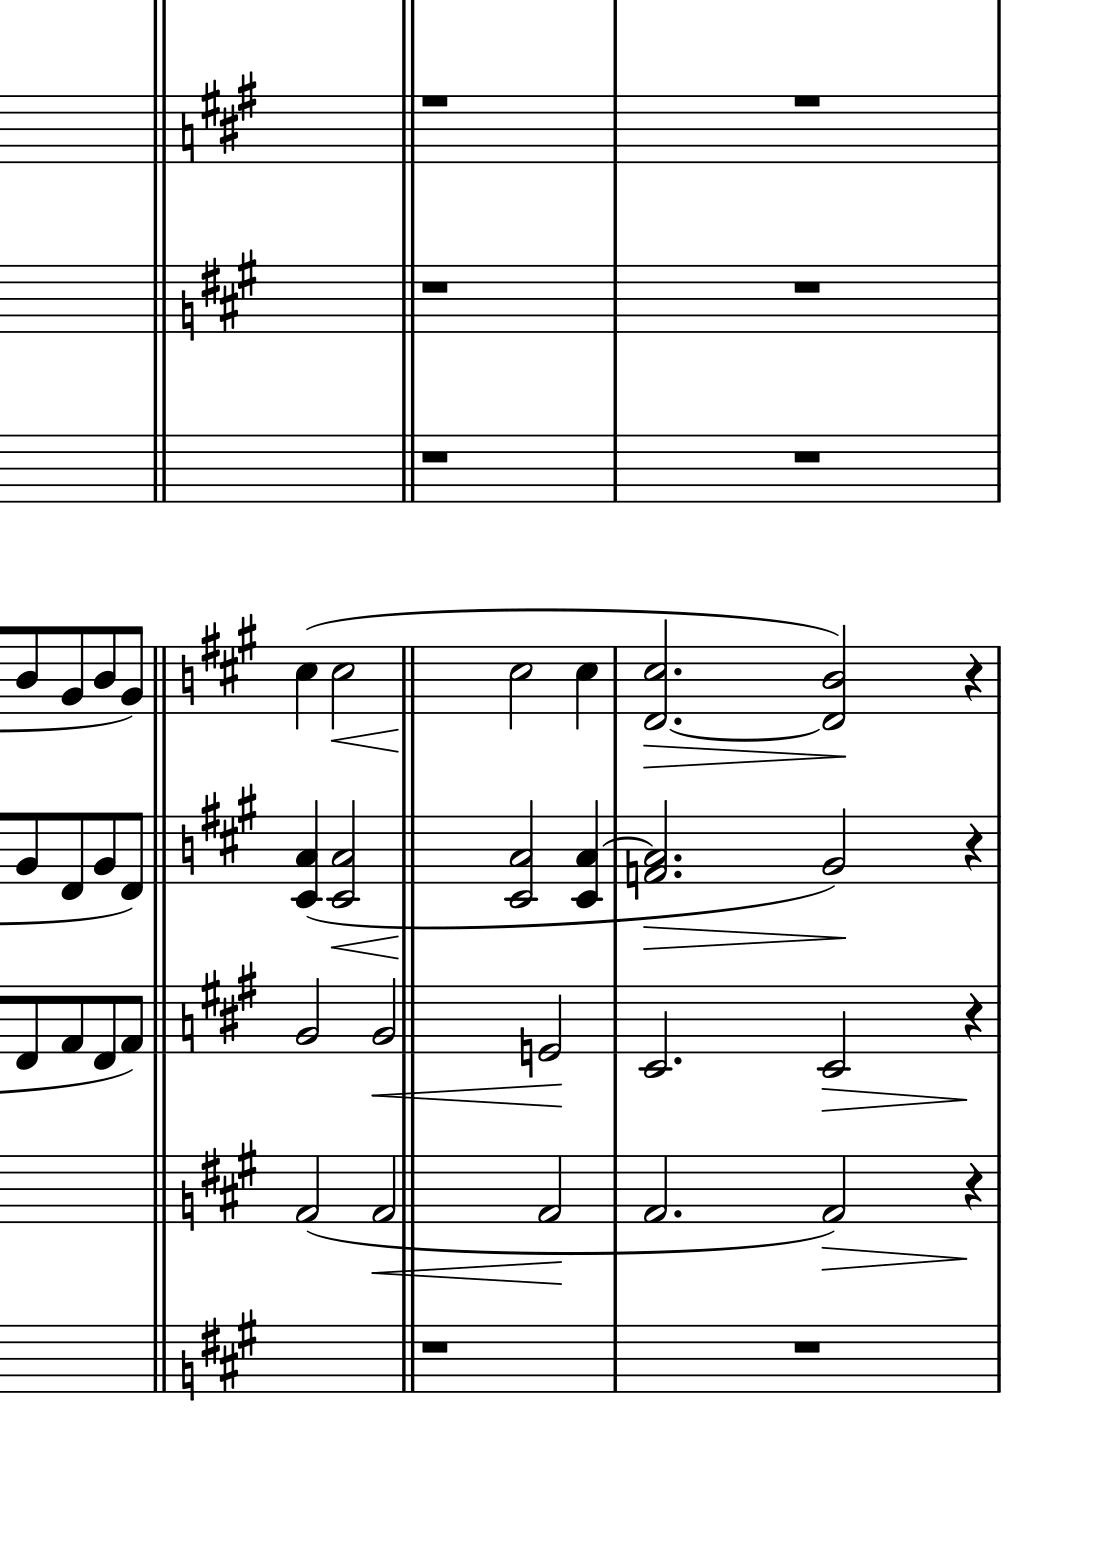2_-1_3: (645, 799, 670, 885)
2_-1_4: (822, 625, 848, 731)
2_-1_5: (643, 619, 669, 731)
2_-2: (639, 982, 670, 1081), (818, 982, 848, 1079)
2_-2_3: (325, 799, 361, 909), (503, 800, 539, 910)
2_0: (537, 983, 564, 1062)
2_1: (535, 1154, 563, 1225), (640, 1154, 669, 1225), (820, 1154, 849, 1225), (293, 1154, 320, 1225), (370, 1154, 397, 1225)
2_2: (820, 806, 849, 887), (370, 975, 398, 1055), (293, 976, 322, 1055)
2_5: (506, 645, 535, 733), (329, 645, 356, 731)
4_-2_3: (292, 800, 325, 906), (570, 801, 603, 908)
4_5: (292, 645, 317, 732), (573, 645, 598, 732)
8_-1: (57, 810, 85, 903), (118, 808, 145, 902), (13, 983, 39, 1071), (91, 983, 116, 1070)
8_1: (57, 983, 84, 1055), (120, 984, 145, 1055)
8_2: (57, 625, 85, 715), (118, 624, 144, 715), (16, 811, 39, 886), (92, 811, 116, 884)
8_4: (14, 624, 39, 715), (92, 624, 116, 715)
A_S: (197, 959, 260, 1050), (200, 1309, 264, 1393), (199, 786, 264, 866), (199, 69, 262, 151), (199, 1138, 261, 1221), (199, 612, 260, 694), (203, 251, 256, 337)
Crescendo_hairpin: (371, 1260, 564, 1290), (372, 1079, 564, 1109), (330, 727, 397, 751), (329, 938, 396, 961)
Diminuendo_hairpin: (645, 924, 849, 951), (645, 744, 849, 770), (822, 1087, 967, 1113), (822, 1246, 967, 1270)
Double_barline: (392, 264, 425, 334), (392, 435, 425, 502), (393, 1325, 425, 1393), (144, 433, 173, 503), (393, 94, 423, 163), (393, 816, 423, 884), (396, 1155, 425, 1225), (395, 987, 423, 1054), (146, 96, 172, 164), (145, 265, 171, 334), (146, 816, 172, 884), (395, 646, 420, 714), (146, 1155, 171, 1223), (147, 1325, 172, 1393), (149, 646, 171, 715)
Natural: (176, 288, 199, 343), (176, 111, 199, 164), (176, 1001, 199, 1054), (177, 1178, 199, 1233), (177, 822, 197, 878), (177, 1347, 197, 1403), (177, 653, 196, 708), (515, 1025, 535, 1077), (623, 845, 640, 902)
Rests1: (416, 444, 452, 468), (416, 275, 452, 298), (417, 90, 452, 112), (789, 445, 824, 468), (789, 90, 824, 111), (417, 1336, 452, 1357), (789, 276, 824, 297), (789, 1336, 824, 1356)
Rests4: (961, 822, 983, 871), (963, 651, 983, 702), (961, 1160, 982, 1211), (961, 991, 982, 1042)
Single_barline: (149, 985, 172, 1054), (604, 96, 624, 163), (988, 987, 1008, 1054), (605, 265, 624, 332), (988, 1326, 1007, 1392), (989, 1155, 1007, 1223), (989, 435, 1007, 502), (606, 647, 624, 714), (606, 987, 624, 1054), (606, 1156, 624, 1223), (606, 1326, 624, 1392), (989, 97, 1007, 161), (989, 818, 1007, 883), (606, 435, 623, 503), (990, 646, 1007, 713), (989, 267, 1006, 332), (605, 812, 621, 872)
Slur: (311, 1228, 834, 1256), (303, 606, 845, 633), (671, 728, 819, 741), (603, 836, 653, 849)
dot: (670, 664, 685, 680), (670, 713, 684, 728), (670, 1054, 684, 1068), (670, 1207, 683, 1221), (670, 851, 684, 863), (670, 868, 684, 880)
